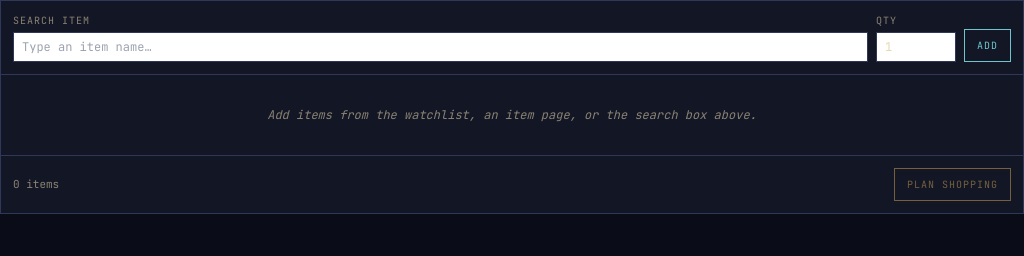
Test: ShoppingListPanel › shows no-match inline error when search has no hits
Type "zzz" into the search field labelled "Search item" at (440, 47), box [13,32,868,62]
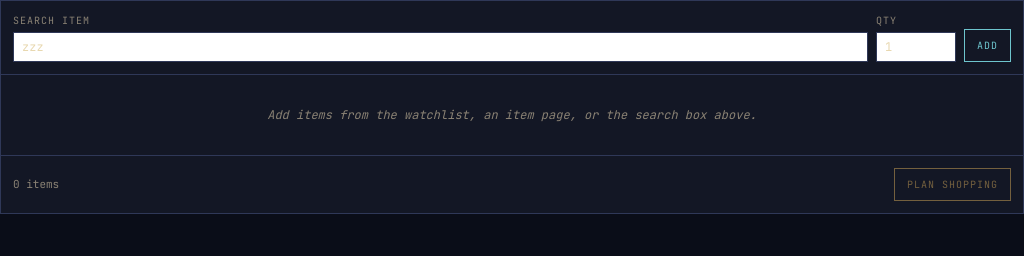
Click the button "Add" at (988, 46), box [964,29,1011,62]
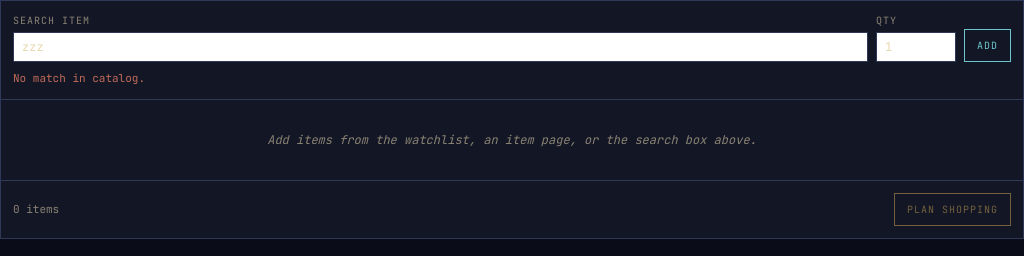
Expected: the text "No match in catalog." is shown, [13,71,145,85]
